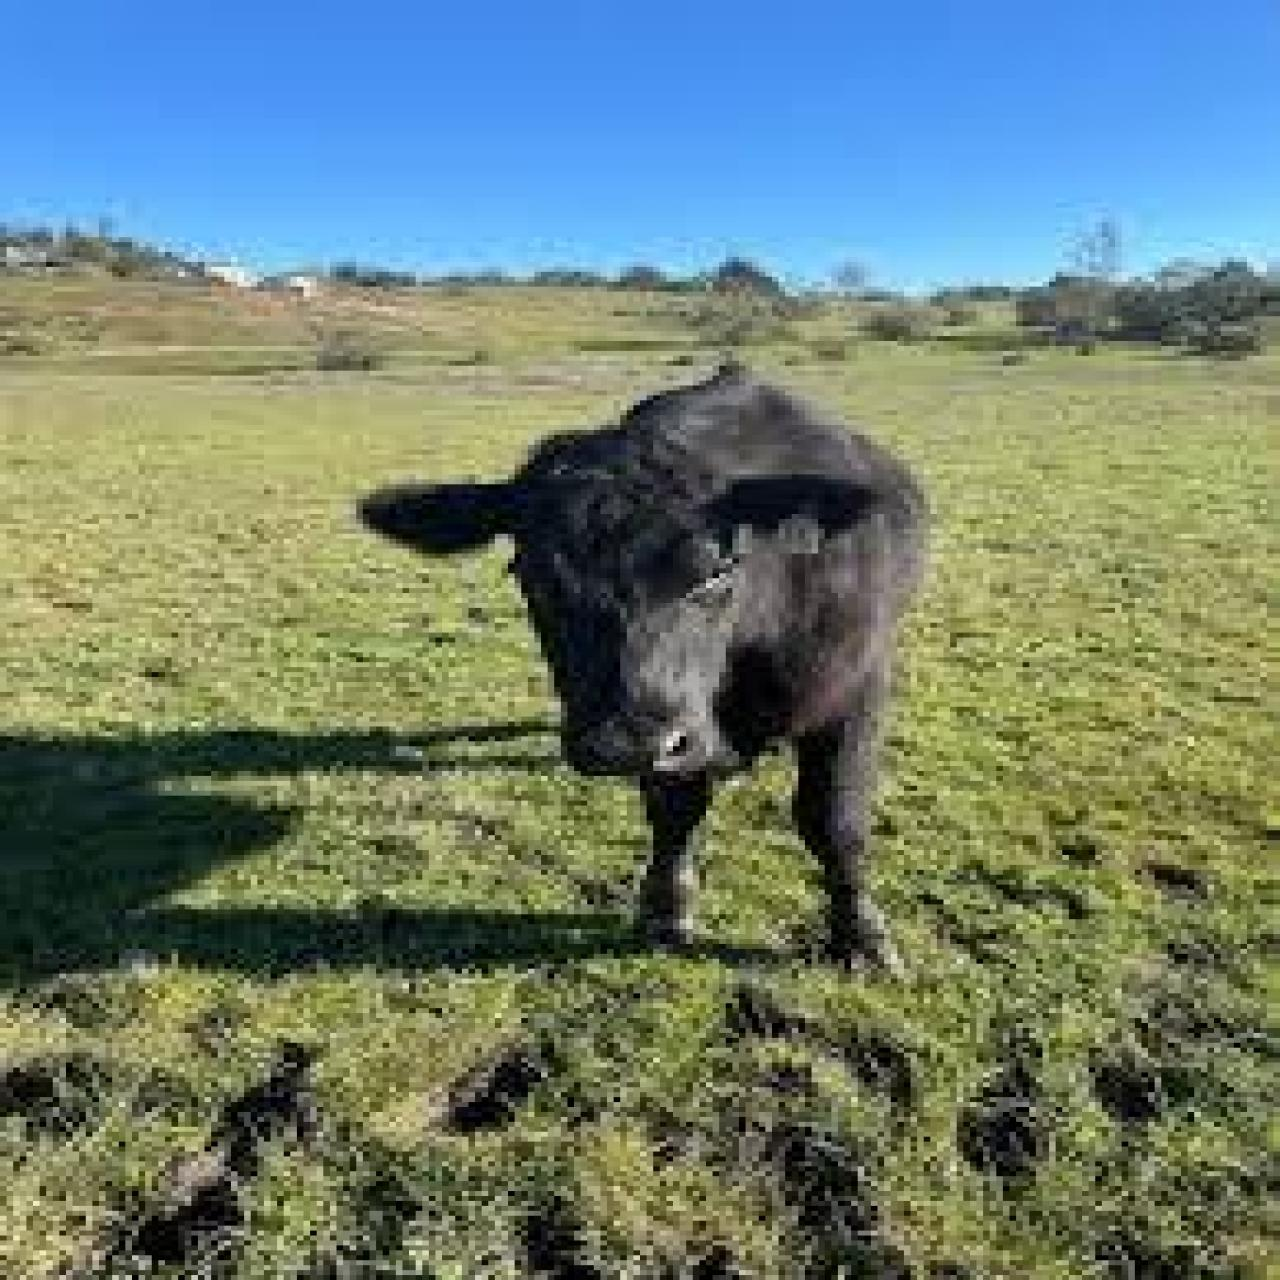cow: (360, 366, 927, 968)
